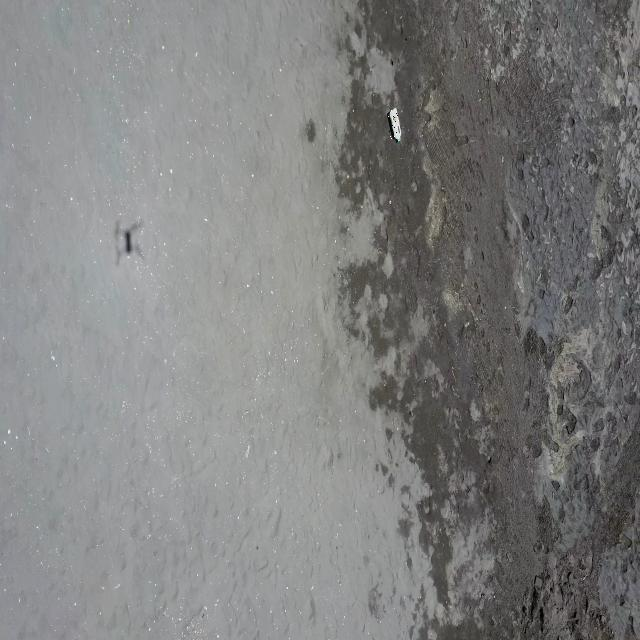plastic-bottle: (388, 108, 400, 142)
